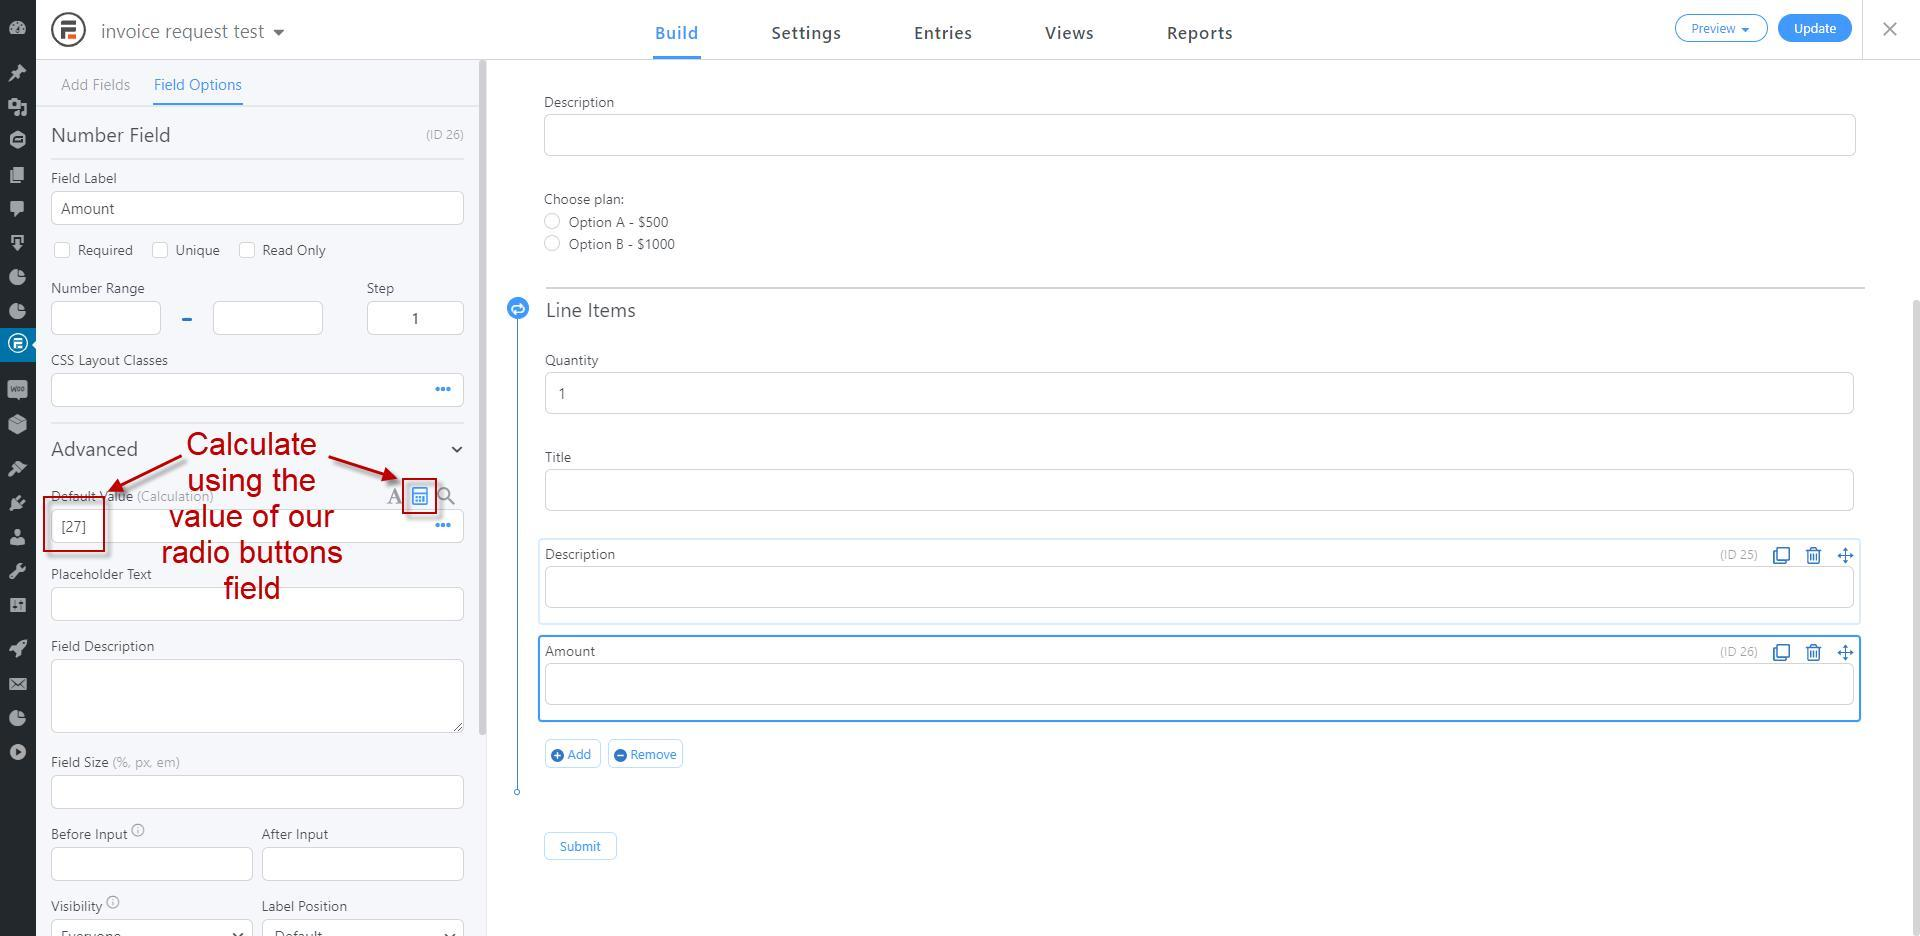button: (1780, 15, 1858, 50), (609, 738, 684, 772), (544, 831, 621, 862), (544, 738, 605, 769)
checkbox: (54, 243, 73, 261), (239, 241, 255, 261), (151, 244, 169, 259)
dropdown: (1674, 12, 1773, 47)
icon: (1767, 641, 1794, 662), (1769, 544, 1793, 567), (1805, 544, 1827, 565), (1834, 641, 1856, 662), (1838, 544, 1855, 566), (1806, 643, 1826, 662)
input: (544, 467, 1851, 512), (546, 664, 1855, 708), (546, 118, 1859, 160), (542, 570, 1860, 611), (546, 376, 1858, 418), (54, 659, 467, 733), (49, 371, 465, 414), (48, 586, 467, 625), (54, 776, 462, 809), (51, 192, 467, 224), (50, 845, 255, 885), (263, 845, 463, 882), (50, 300, 164, 341), (216, 300, 326, 334), (367, 301, 467, 338)
label: (47, 439, 153, 468), (51, 124, 176, 147), (568, 234, 677, 256), (260, 896, 354, 919), (50, 753, 181, 769), (51, 353, 171, 370), (567, 214, 673, 233), (51, 826, 149, 844), (48, 893, 122, 915), (48, 638, 159, 653), (538, 91, 621, 110), (49, 281, 147, 296), (51, 568, 157, 583), (541, 191, 626, 208), (260, 826, 337, 844), (538, 350, 600, 370), (50, 170, 121, 187), (544, 643, 600, 664), (544, 546, 618, 561), (264, 244, 328, 261), (78, 244, 136, 261), (176, 244, 225, 262), (541, 448, 578, 464), (365, 282, 397, 295)
radio: (540, 236, 563, 256), (542, 212, 564, 232)
